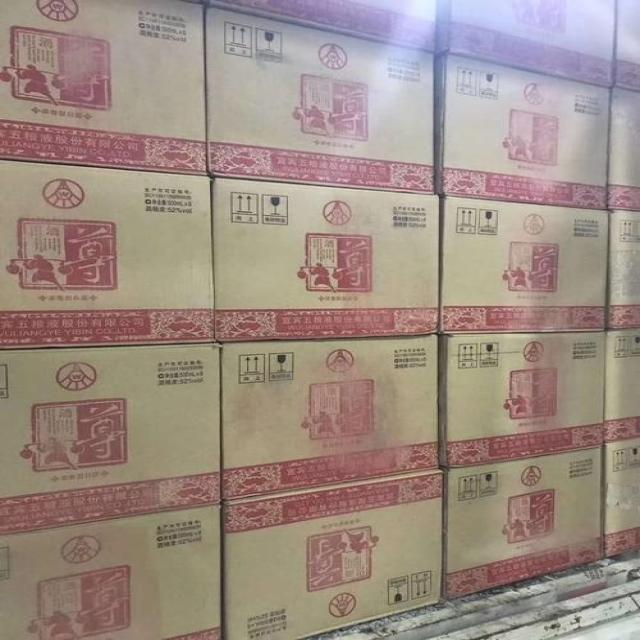box: (206, 6, 437, 193), (0, 344, 222, 534), (0, 159, 216, 348), (210, 179, 441, 343), (221, 471, 443, 639), (220, 337, 443, 503), (0, 0, 208, 175), (437, 52, 612, 208), (444, 449, 603, 600), (440, 196, 611, 334), (441, 334, 609, 469), (437, 1, 614, 85), (192, 1, 438, 52), (601, 439, 639, 559), (605, 326, 639, 447), (609, 86, 639, 211), (609, 209, 639, 330), (613, 1, 639, 89)
